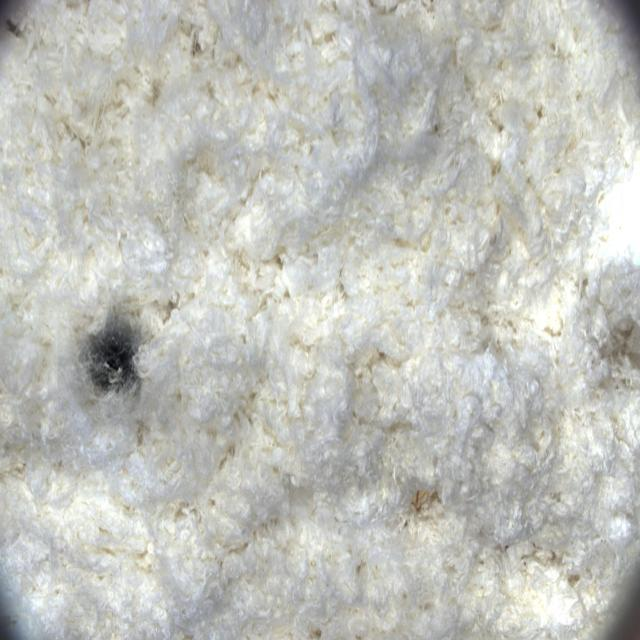dust: (58, 264, 181, 456)
